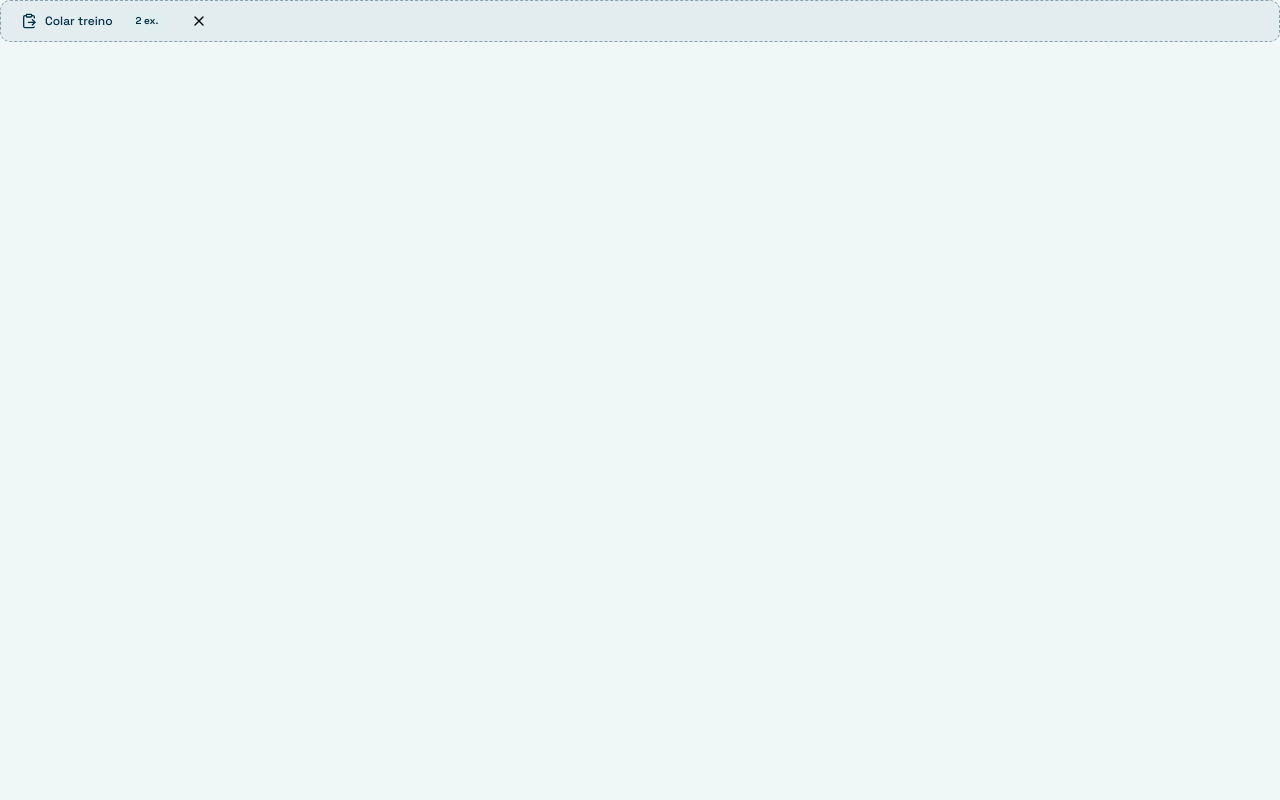
Test: ColarTreinoButton › disables the submit button when the title is cleared
This screenshot has width=1280, height=800.
Click the button "Colar treino 2 ex.".
click(95, 21)  # box [9,5,181,37]
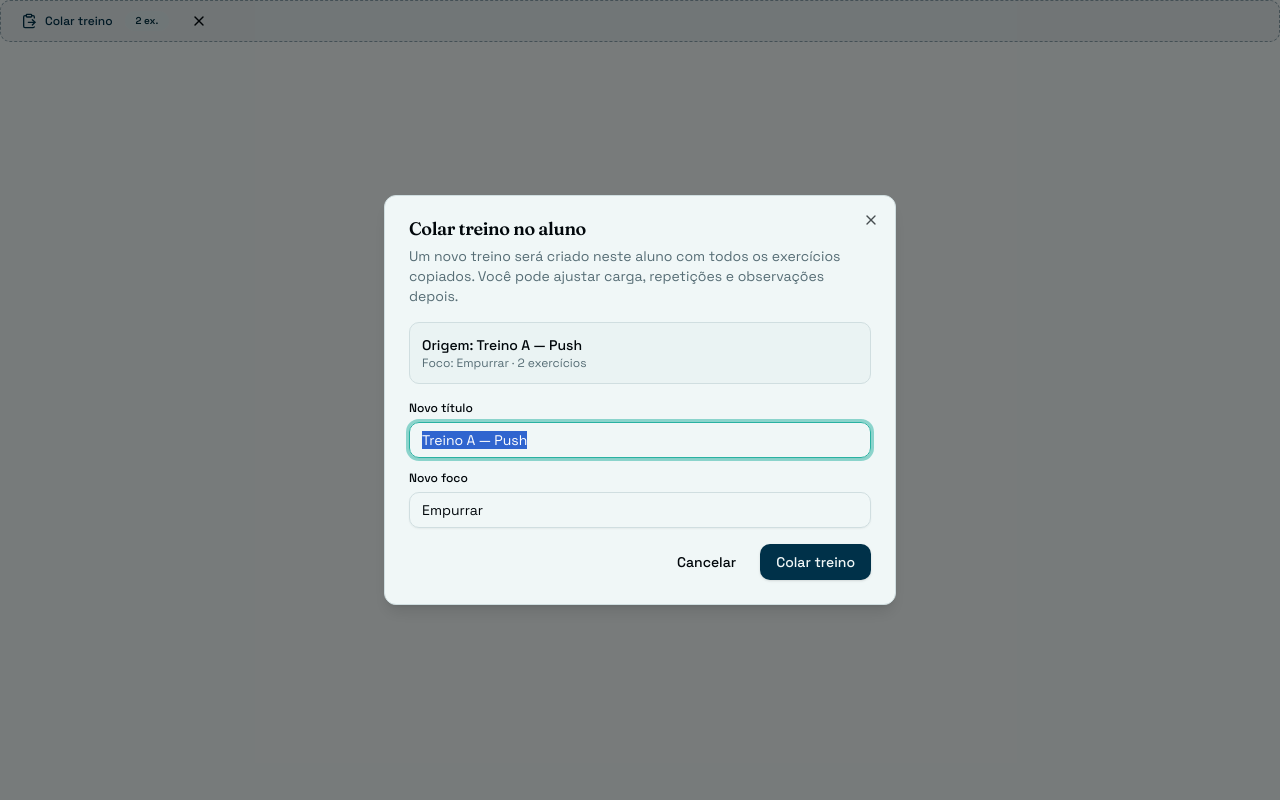
Clear the field showing "Treino A — Push" below "Novo título" at (640, 440), box [409,422,871,458]
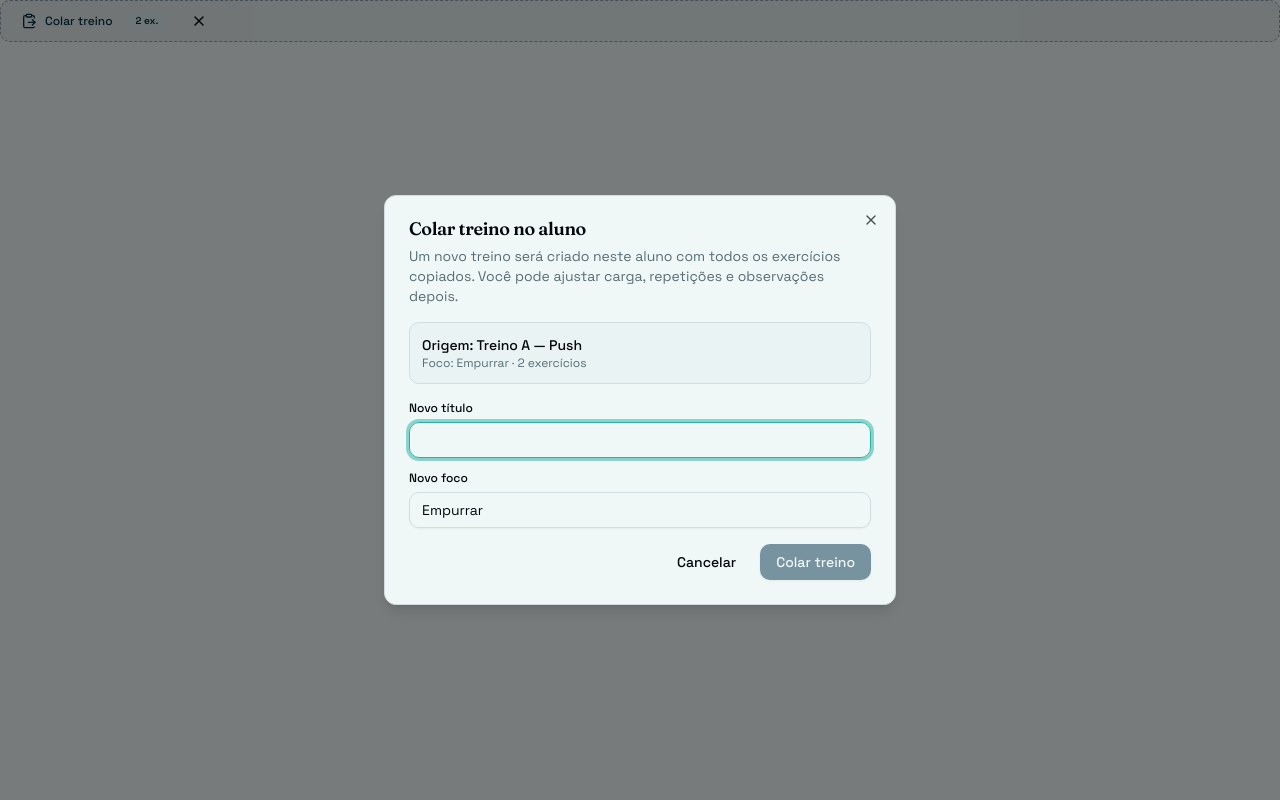
Now the button "Colar treino" is disabled, box [760,544,871,580]
